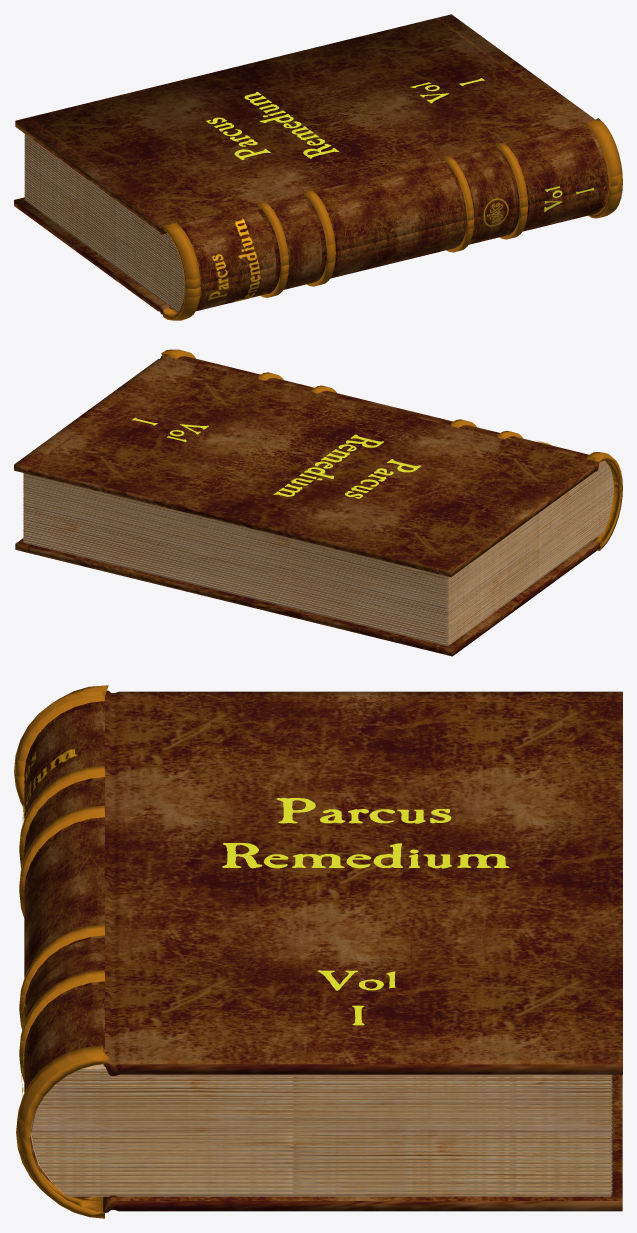
Rendered from obj_old_book_84145c.glb.
3 renders of one model, top to bottom at view 1: azimuth 30°, elevation 25°; view 2: azimuth 150°, elevation 25°; view 3: azimuth 270°, elevation 25°, orthographic. The views are drawn at different scales.
Visible parts, largest first — view 1: obj_old_book_84145c; view 2: obj_old_book_84145c; view 3: obj_old_book_84145c.
Boxes of the visible parts, box(x1,y1,x2,y2) form: obj_old_book_84145c: box(14, 14, 622, 320); obj_old_book_84145c: box(14, 349, 622, 656); obj_old_book_84145c: box(14, 685, 622, 1218).
Size of the model in its own units: 1.17 by 0.24 by 0.8053.
Materials: 7 (5 with a texture image).
